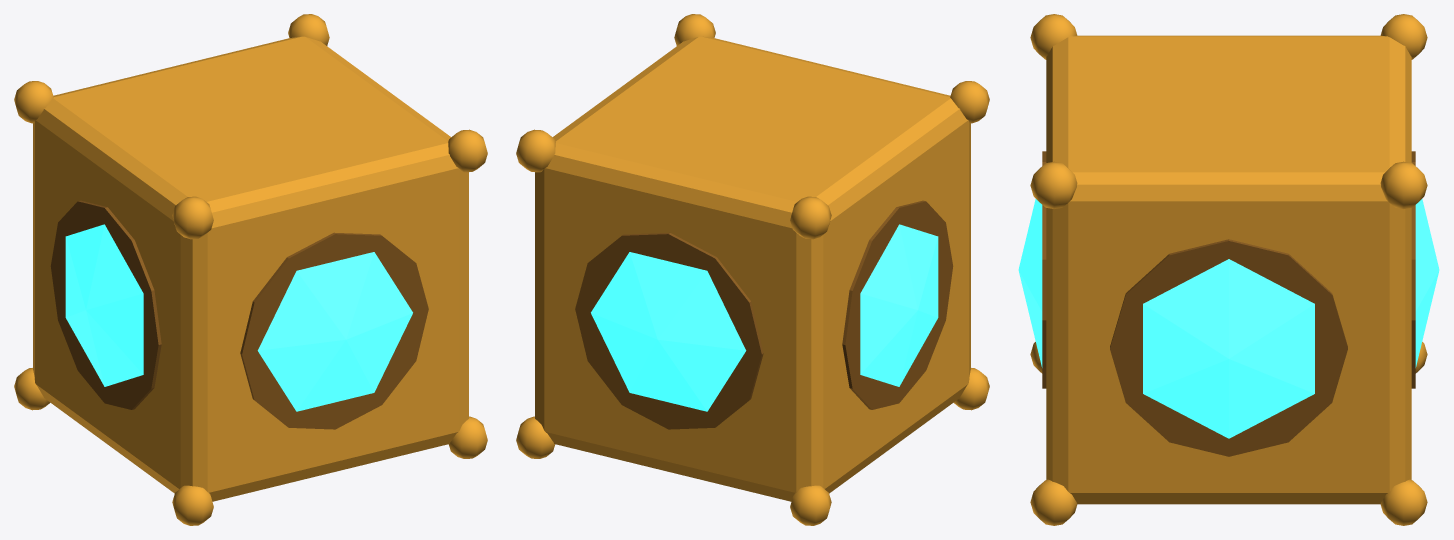
File: block_crystal.glb
The picture shows the model from 3 angles, left to right: view 1: azimuth 30°, elevation 25°; view 2: azimuth 150°, elevation 25°; view 3: azimuth 270°, elevation 25°; orthographic projection. The views are drawn at different scales.
Parts seen in each view (by area): view 1: block_crystal; view 2: block_crystal; view 3: block_crystal.
Boxes of the visible parts, x1,y1,x2,y2 form: block_crystal: (14,14,487,525); block_crystal: (516,14,989,525); block_crystal: (1018,14,1439,525).
Size of the model in its own units: 1.06 by 1 by 1.06.
